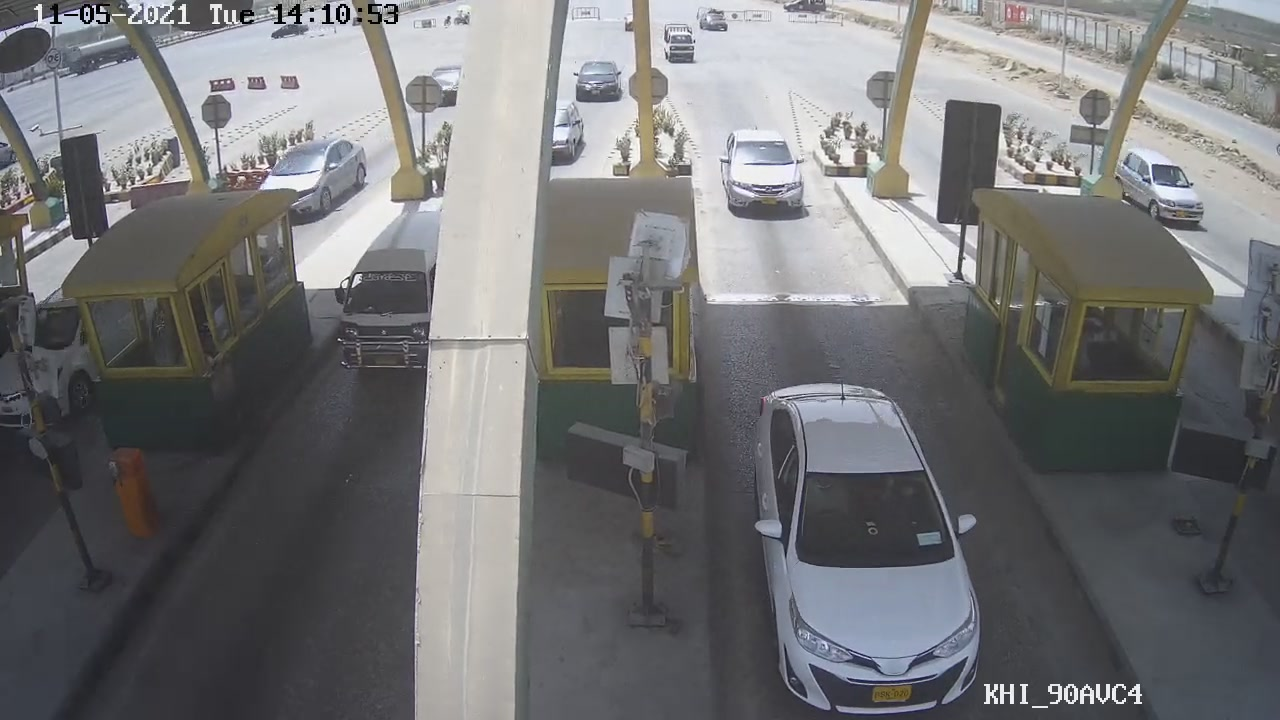F1: (746, 376, 986, 716)
